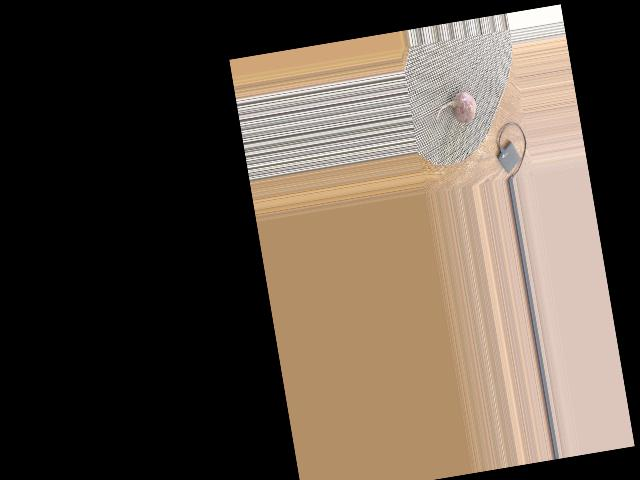beet: (432, 90, 478, 128)
